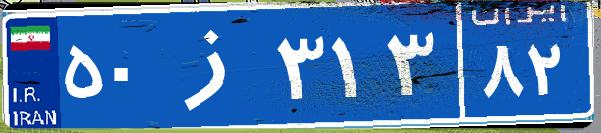0: (110, 28, 158, 105)
1: (330, 28, 385, 110)
2: (525, 38, 570, 115)
3: (385, 28, 445, 110), (273, 28, 330, 110)
5: (57, 26, 110, 107)
8: (475, 38, 525, 113)
ز: (158, 15, 273, 115)
